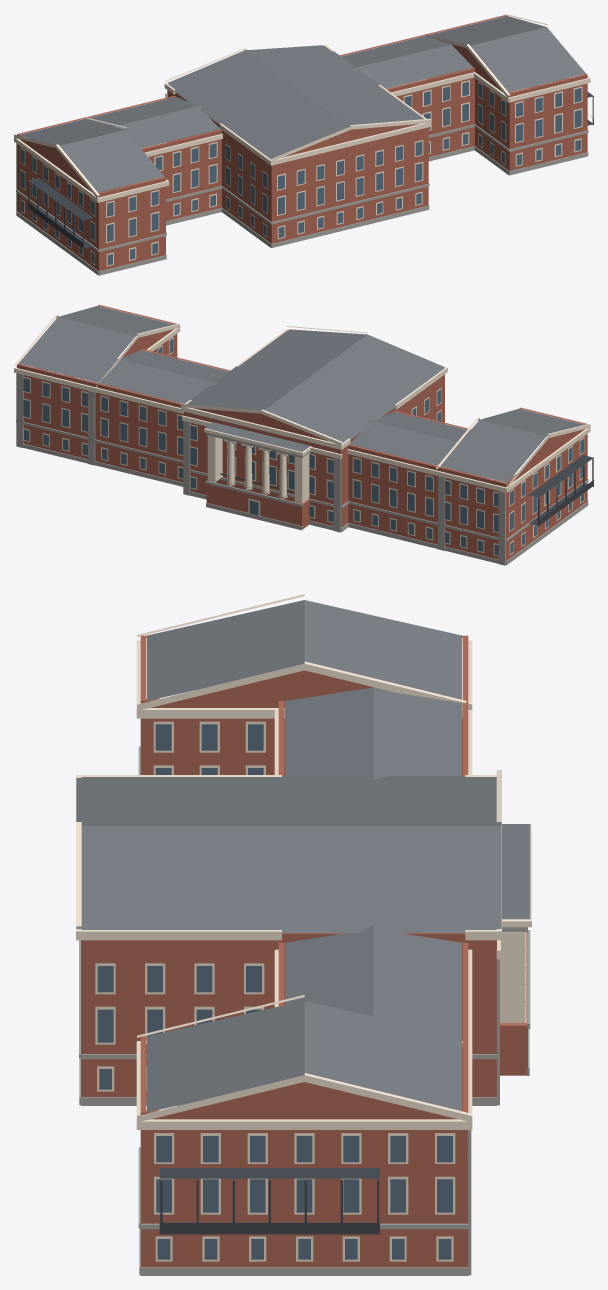
Rendered from nola-old-us-mint.glb.
3 renders of one model, top to bottom at view 1: azimuth 30°, elevation 25°; view 2: azimuth 150°, elevation 25°; view 3: azimuth 270°, elevation 25°, orthographic. The views are drawn at different scales.
Parts seen in each view (by area): view 1: Old U.S. Mint; view 2: Old U.S. Mint; view 3: Old U.S. Mint.
Part boxes in pixels (box(x1,y1,x2,y2)): Old U.S. Mint: box(14, 14, 593, 275); Old U.S. Mint: box(14, 304, 593, 565); Old U.S. Mint: box(76, 594, 531, 1275).
Size of the model in its own units: 93.28 by 18.03 by 36.05.
